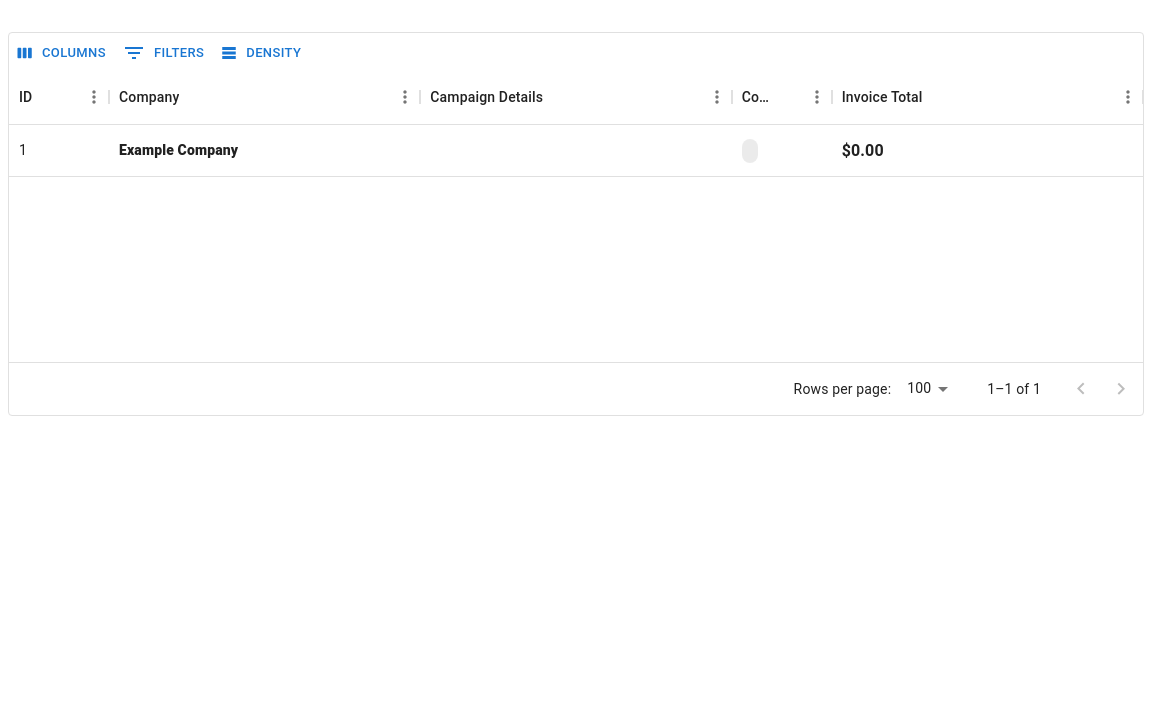
Test: CampaignsDataGrid › renders the data grid and side panel when a campaign is clicked
Click the text "Example Company": (179,150) left=119, top=140, right=238, bottom=160
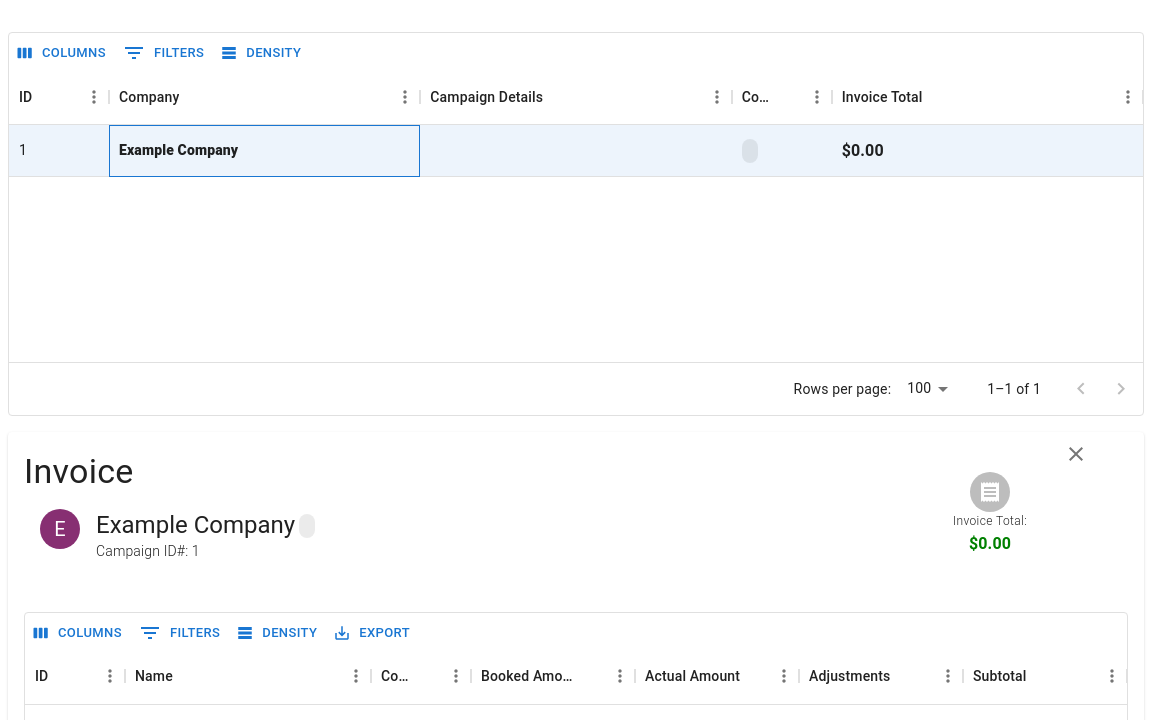
Expected: the heading "Invoice" is shown, left=24, top=451, right=134, bottom=491
